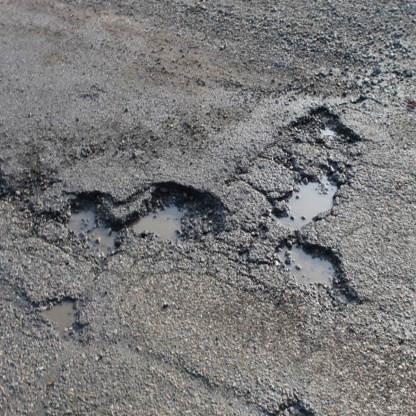pothole: (253, 156, 367, 316), (46, 171, 232, 264)
